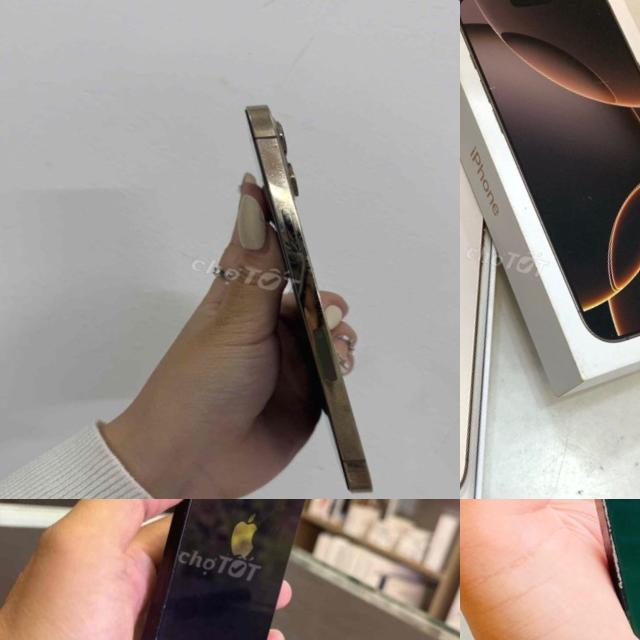scratch: (257, 214, 344, 300), (240, 132, 314, 222)
